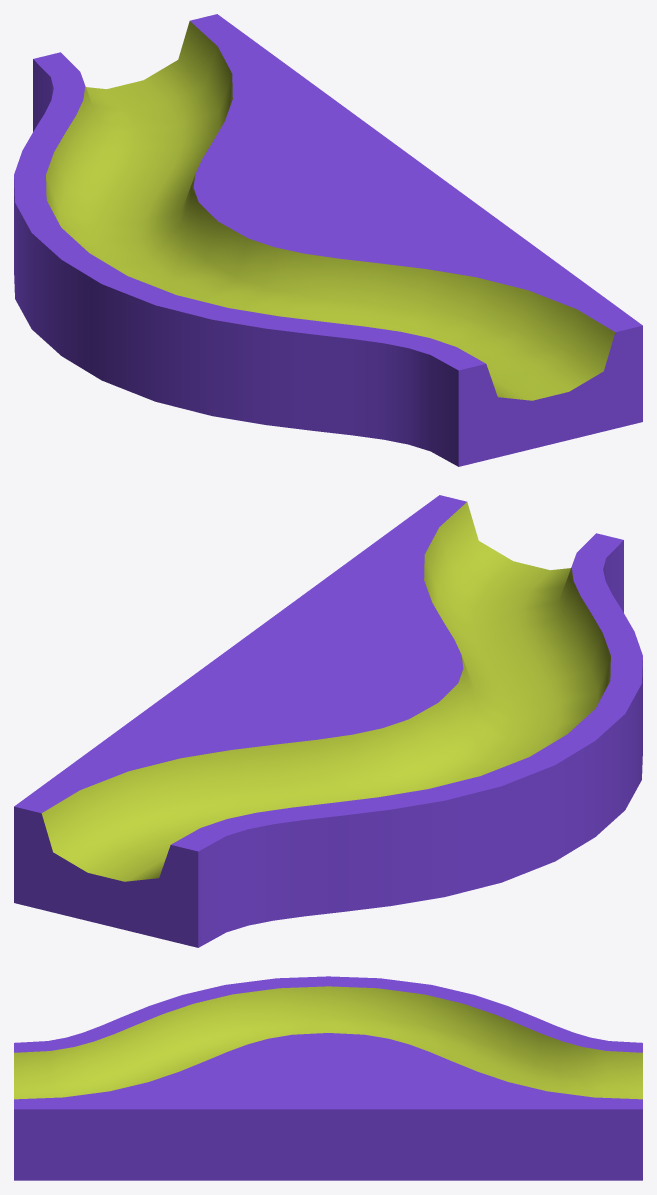
Rendered from wave_solid_C-col.dae.
3 views of the same model, one above another, from view 1: azimuth 30°, elevation 25°; view 2: azimuth 150°, elevation 25°; view 3: azimuth 270°, elevation 25° (orthographic). The views are drawn at different scales.
Visible parts, largest first — view 1: wave_solid_C-col; view 2: wave_solid_C-col; view 3: wave_solid_C-col.
Part boxes in pixels (x1,y1,x2,y2): wave_solid_C-col: (14, 14, 642, 466); wave_solid_C-col: (14, 495, 642, 947); wave_solid_C-col: (14, 976, 642, 1180).
Size of the model in its own units: 2 by 4 by 0.5.
